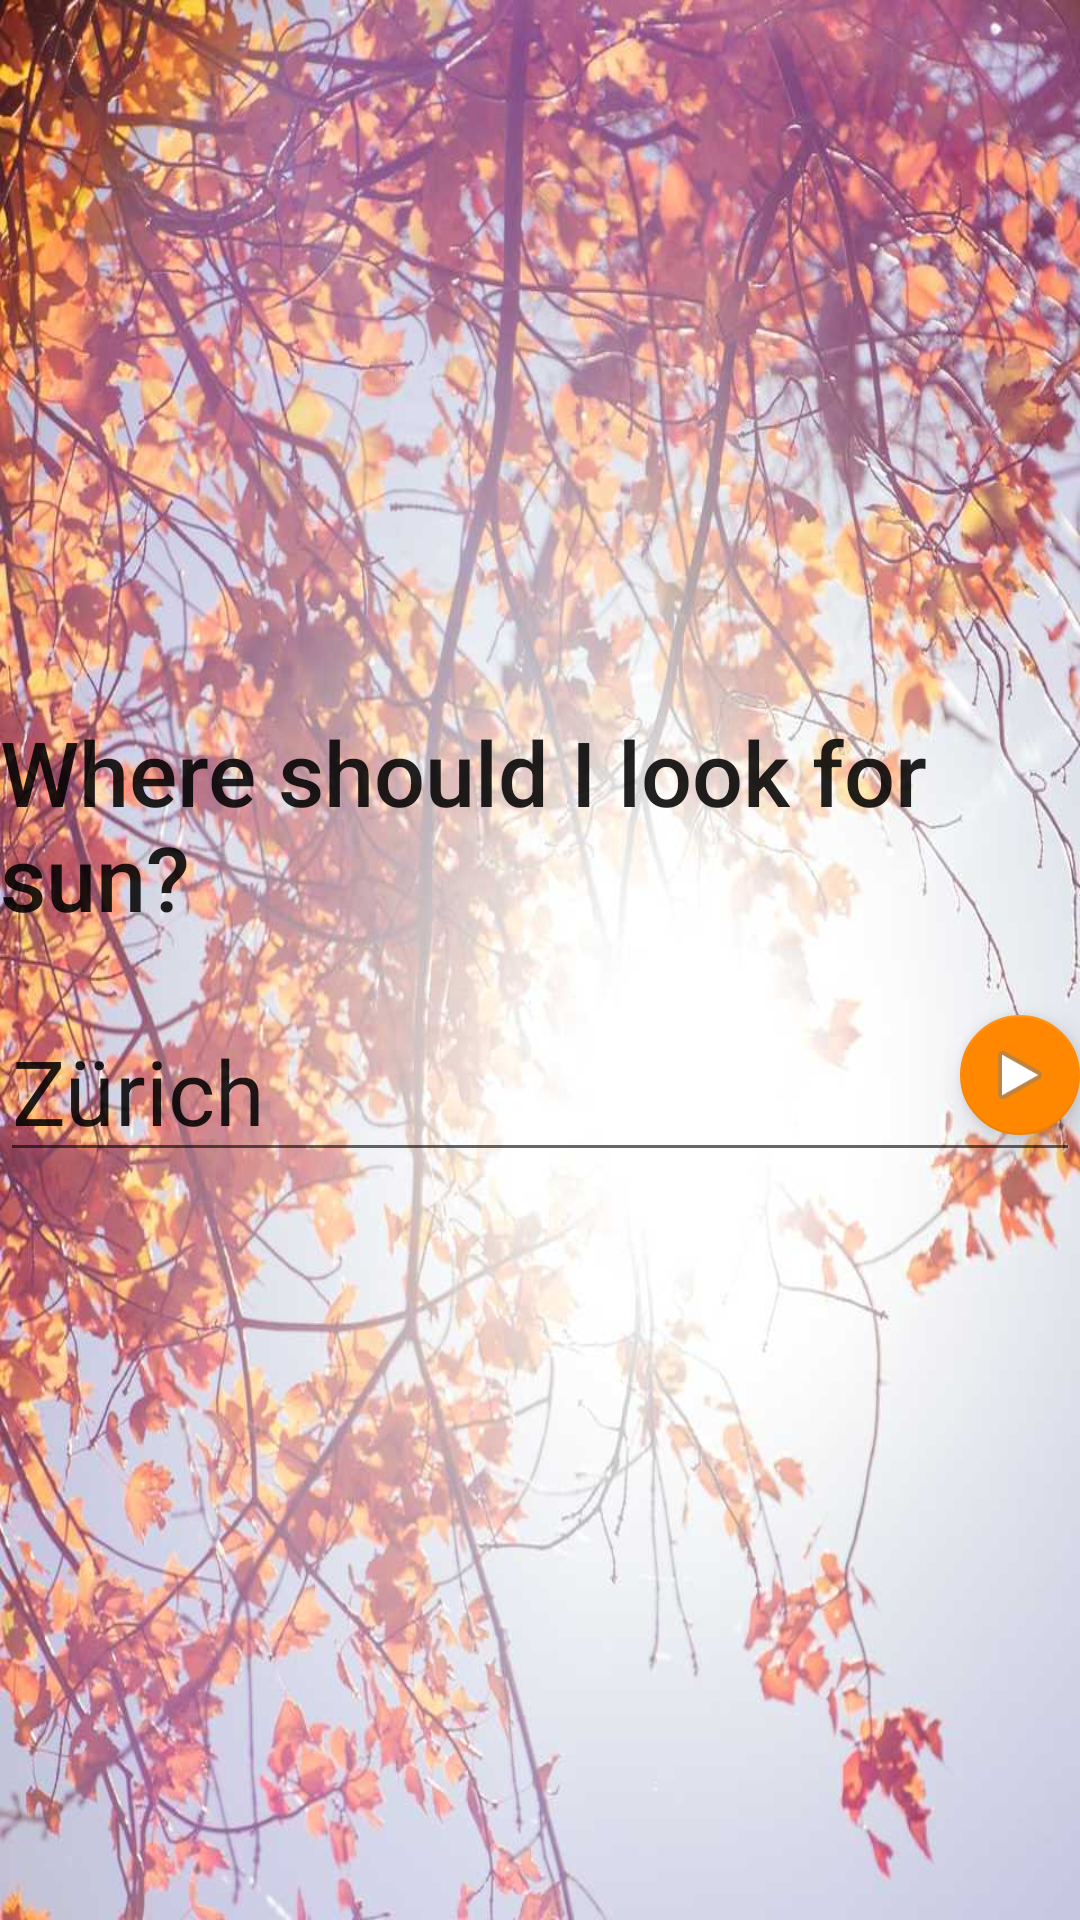

Icon click points for this 1080w x 1920h phone screenshot, format (x=x, y=y):
play: (x=1020, y=1075)
